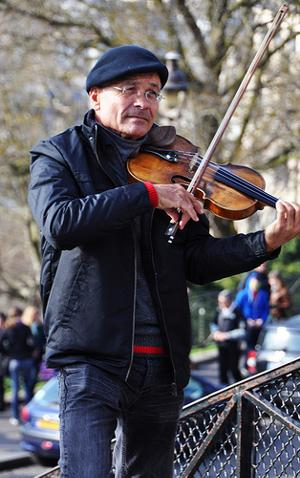person: (28, 49, 300, 478)
